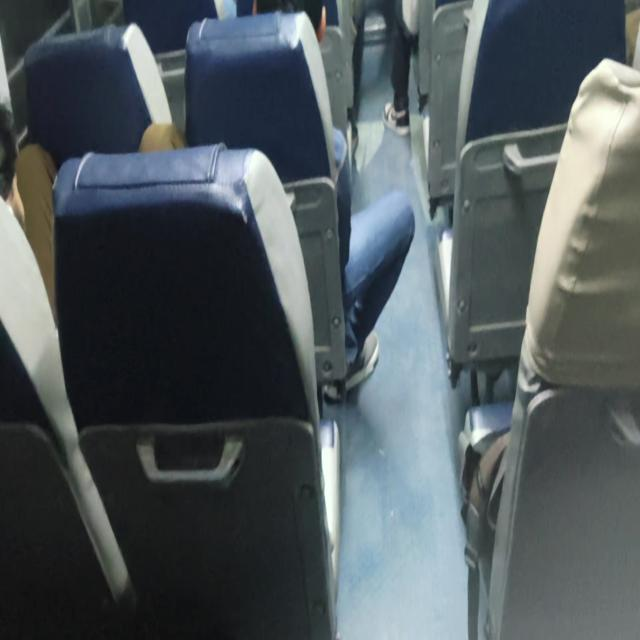person: (238, 0, 322, 65)
